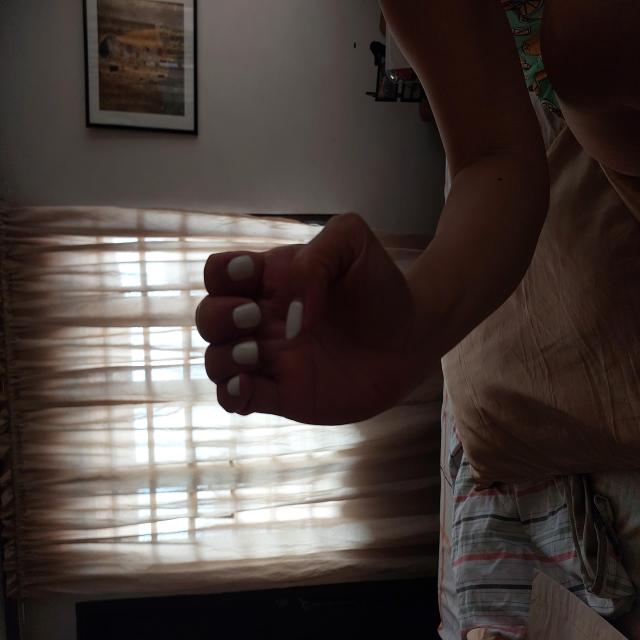E: (208, 195, 433, 422)
